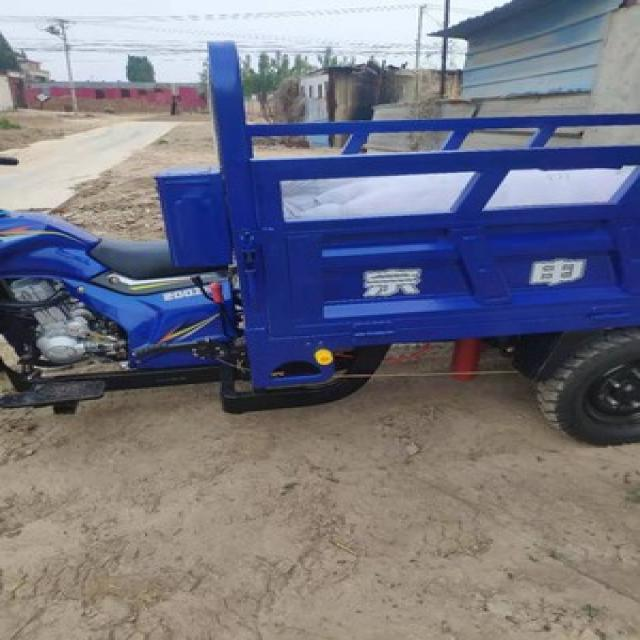tricycle: (2, 39, 638, 452)
